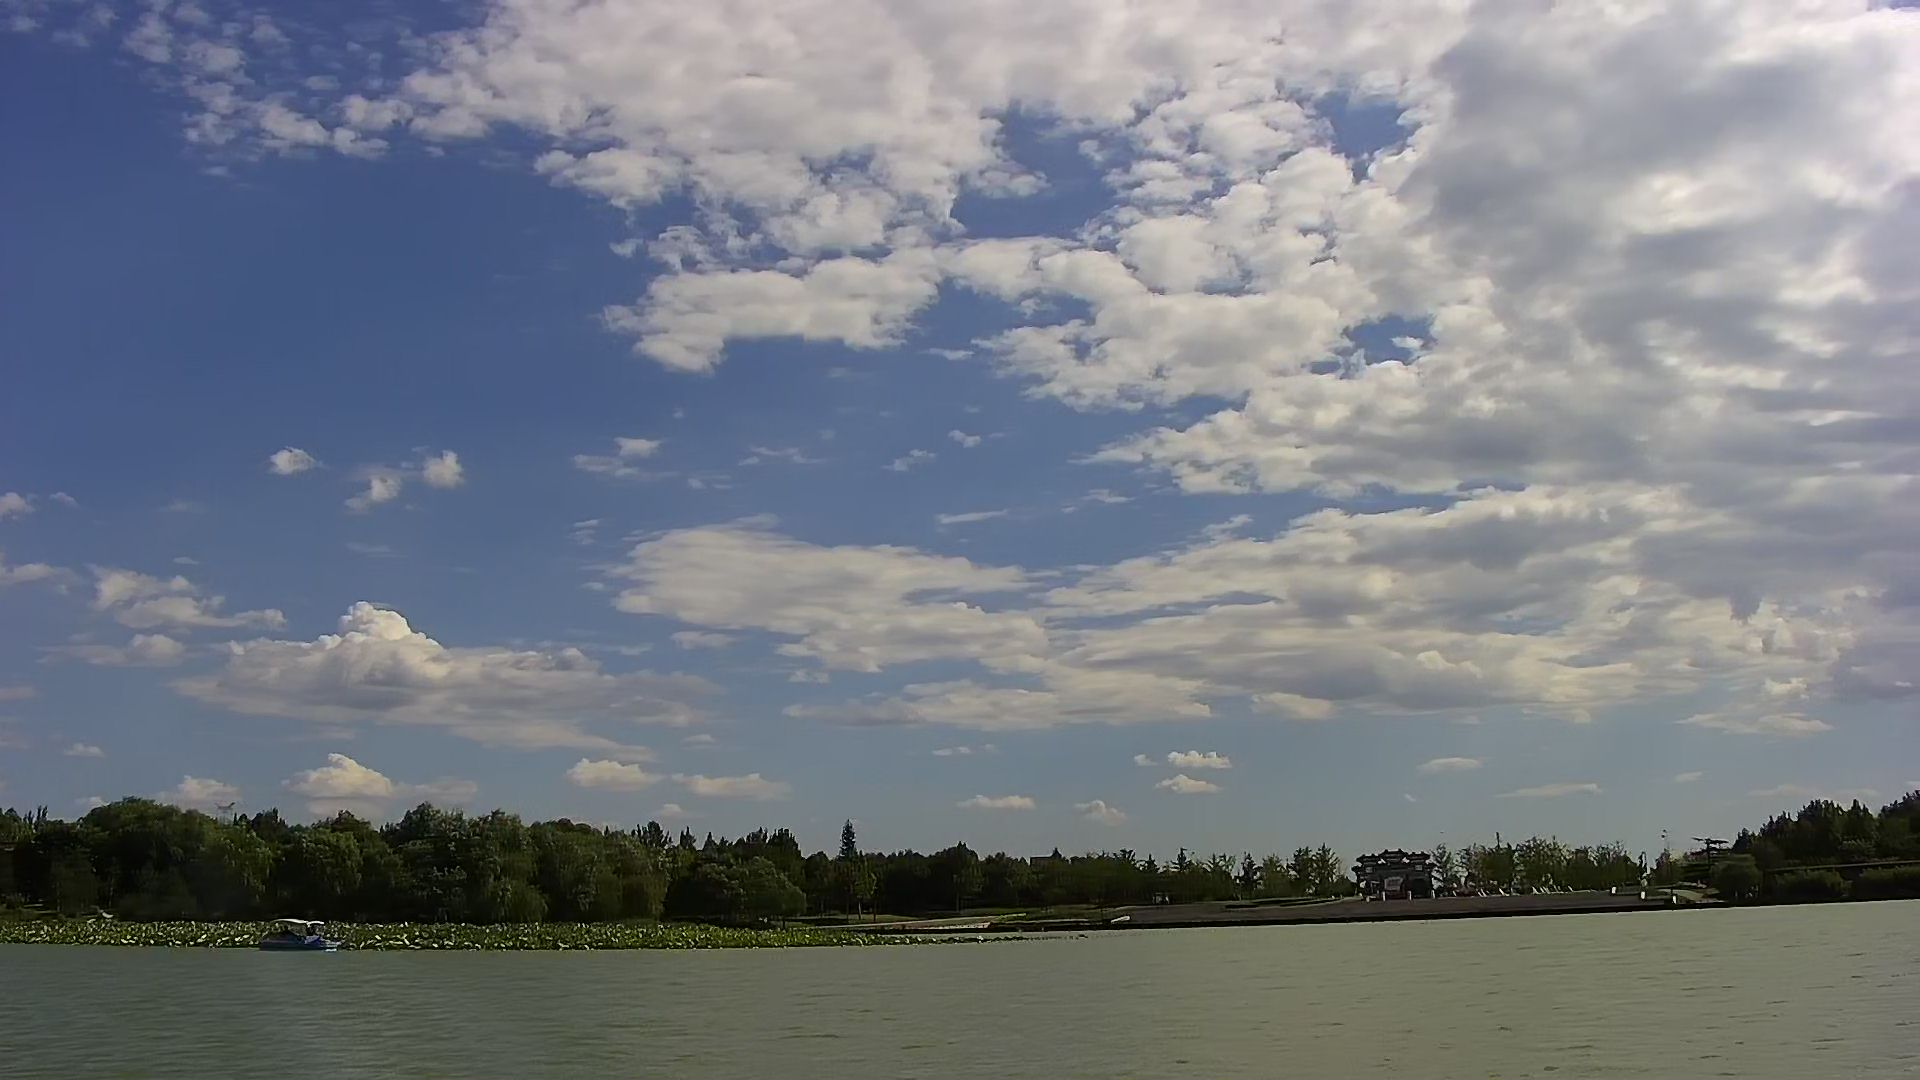boat: (258, 915, 330, 949)
grass: (15, 915, 1000, 953)
